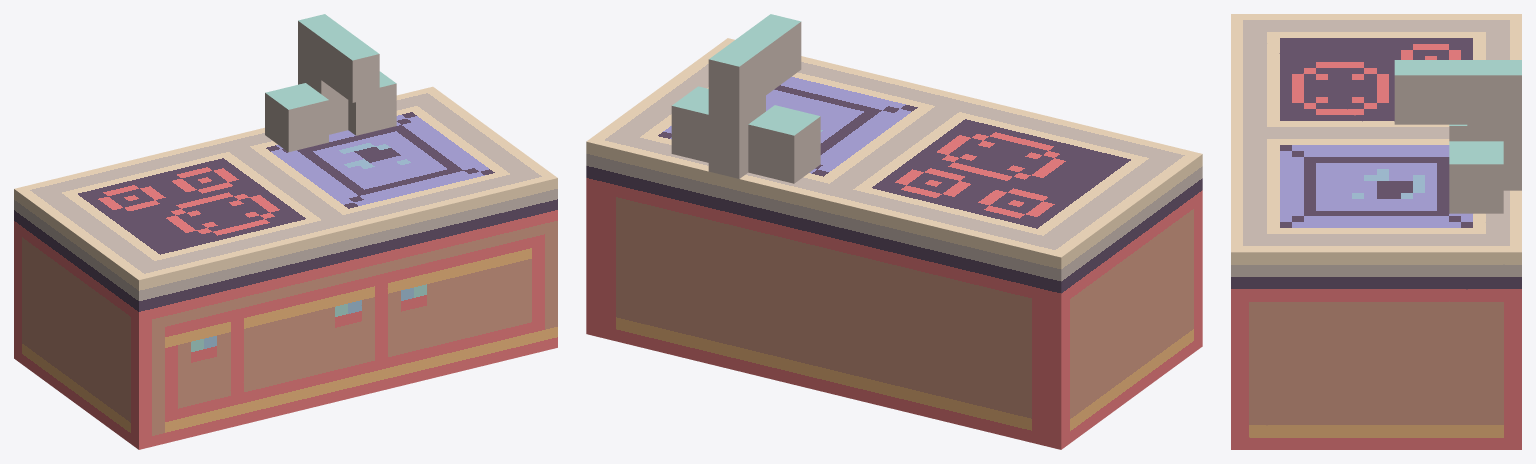
The model's file is PlanDeTravail.glb.
3 renders of one model, left to right at view 1: azimuth 30°, elevation 25°; view 2: azimuth 150°, elevation 25°; view 3: azimuth 270°, elevation 25°, orthographic. The views are drawn at different scales.
Visible parts, largest first — view 1: Meuble_cuiisne; view 2: Meuble_cuiisne; view 3: Meuble_cuiisne.
Boxes of the visible parts, x1=… form: Meuble_cuiisne: x1=14, y1=14, x2=557, y2=449; Meuble_cuiisne: x1=586, y1=14, x2=1202, y2=449; Meuble_cuiisne: x1=1231, y1=14, x2=1521, y2=449.
Size of the model in its own units: 7.75 by 4.75 by 4.
Materials: 1 (1 with a texture image).
